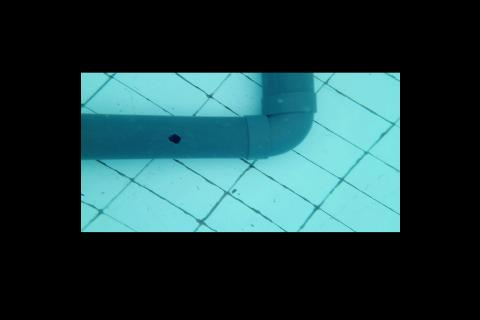kebocoran: (166, 131, 181, 145)
